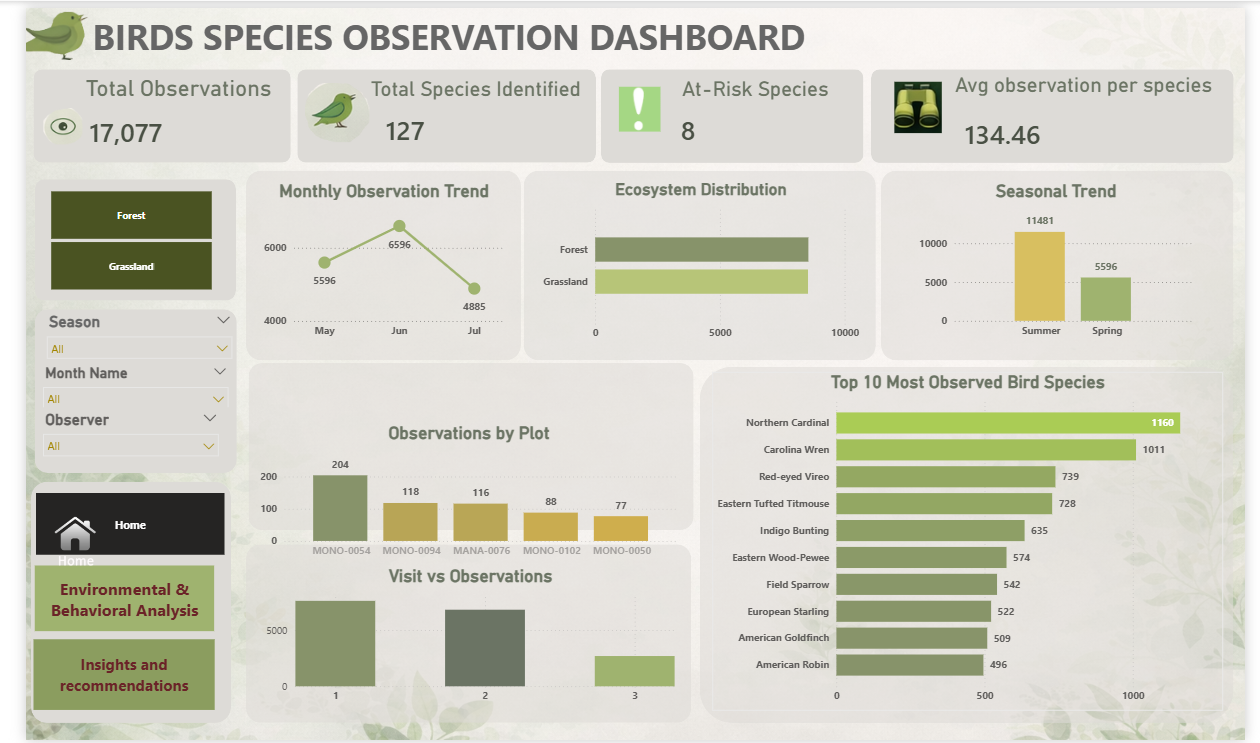

Layout of this report page (visuals, bound fields, positions):
{"tool":"powerbi","page":{"name":"Home","canvas":[1500,900],"ordinal":0},"visuals":[{"type":"group","id":"g1","title":"Group 2","box":[6.2,75.4,320,115.4],"z":0},{"type":"shape","box":[9.3,75.4,316.7,115],"z":0,"group":"g1"},{"type":"group","id":"g2","title":"Group 2","box":[333.8,75.4,367.7,115],"z":0,"group":"g11"},{"type":"shape","box":[333.8,75.4,367.7,115],"z":0,"group":"g2"},{"type":"group","id":"g3","title":"Group 2","box":[707.7,75.4,323.1,115.4],"z":0,"group":"g6"},{"type":"shape","box":[707.7,75.4,323.1,115.4],"z":0,"group":"g3"},{"type":"group","id":"g4","title":"Group 3","box":[1039.4,76.1,446.5,121.8],"z":0,"group":"g12"},{"type":"group","id":"g5","title":"Group 2","box":[1039.4,76.1,446.5,121.8],"z":0,"group":"g4"},{"type":"shape","box":[1039.4,76.1,446.5,115.5],"z":0,"group":"g5"},{"type":"cardVisual","title":"Avg observation per species","fields":{"Data":["birds_analysis bird_data.Avg Observations per Species"]},"box":[1135.1,81,332.4,116.9],"z":0,"group":"g7"},{"type":"cardVisual","title":"Total Observations","fields":{"Data":["birds_analysis bird_data.Total_observation"]},"box":[49,83.4,276.9,105.1],"z":0,"group":"g8"},{"type":"cardVisual","title":"At-Risk Species","fields":{"Data":["birds_analysis bird_data.At_risk_species"]},"box":[777,83.9,241.3,99.7],"z":0,"group":"g9"},{"type":"cardVisual","title":"Total Species Identified","fields":{"Data":["birds_analysis bird_data.Total_species"]},"box":[413.2,84.2,279.1,99.3],"z":0,"group":"g10"},{"type":"group","id":"g6","title":"Group 3","box":[707.7,75.4,323.1,115.4],"z":1000},{"type":"image","box":[1061.3,91.5,73.2,63.4],"z":1000,"group":"g12"},{"type":"image","box":[335.2,92.6,95.6,73],"z":1000,"group":"g11"},{"type":"image","box":[717.4,96.3,76.9,55.4],"z":1000,"group":"g6"},{"type":"image","box":[6.2,122.8,78,44.5],"z":1000,"group":"g8"},{"type":"shape","box":[612.7,200,433.8,233.8],"z":1000,"group":"g20"},{"type":"shape","box":[1052.1,200,433.8,233.8],"z":1000,"group":"g15"},{"type":"group","id":"g7","title":"Group 1","box":[1135.1,81,332.4,116.9],"z":1002,"group":"g5"},{"type":"group","id":"g8","title":"Group 1","box":[6.2,83.4,319.7,105.1],"z":1002,"group":"g1"},{"type":"group","id":"g9","title":"Group 1","box":[777,83.9,241.3,99.7],"z":1002,"group":"g3"},{"type":"group","id":"g10","title":"Group 1","box":[413.2,84.2,279.1,99.3],"z":1002,"group":"g2"},{"type":"group","id":"g11","title":"Group 4","box":[333.8,75.4,367.7,113.8],"z":2000},{"type":"group","id":"g12","title":"Group 5","box":[1039.4,76.1,446.5,121.8],"z":3000},{"type":"group","id":"g13","title":"Group 6","box":[612.7,200,433.8,233.8],"z":5000},{"type":"clusteredBarChart","title":"Ecosystem Distribution","fields":{"Y":["birds_analysis bird_data.Total_observation"],"Category":["birds_analysis bird_data.Location_Type"]},"box":[631.1,210.7,400,207.3],"z":5000,"group":"g20"},{"type":"columnChart","title":"Seasonal Trend","fields":{"Category":["birds_analysis bird_data.Season"],"Y":["birds_analysis bird_data.Total_observation"]},"box":[1094.4,211.8,347.9,202.9],"z":5000,"group":"g15"},{"type":"shape","box":[270.8,200,338.5,233.8],"z":6000},{"type":"lineChart","title":"Monthly Observation Trend","fields":{"Category":["birds_analysis bird_data.Month Name"],"Y":["birds_analysis bird_data.Total_observation"]},"box":[287.7,212.3,306.2,203.1],"z":7000},{"type":"shape","box":[10.8,210.8,247.7,149.2],"z":8000},{"type":"slicer","fields":{"Values":["birds_analysis bird_data.Ecosystem"]},"box":[4.6,218.5,247.7,135.4],"z":9000},{"type":"group","id":"g14","title":"Group 8","box":[10.8,370.8,253.8,201.5],"z":10000},{"type":"textbox","box":[76.9,0,936.9,81.5],"z":11000},{"type":"image","box":[0,0,77.5,69],"z":12000},{"type":"shape","box":[829.2,441.5,656.9,438.5],"z":12000,"group":"g18"},{"type":"group","id":"g15","title":"Group 10","box":[1052.1,200,433.8,233.8],"z":13000},{"type":"clusteredBarChart","title":"Top 10 Most Observed Bird Species","fields":{"Category":["birds_analysis bird_data.Common_Name"],"Y":["birds_analysis bird_data.Total_observation"]},"box":[844.2,448.4,629.2,416.9],"z":13000,"group":"g18"},{"type":"group","id":"g16","title":"Group 11","box":[273.8,436.9,547.7,249.2],"z":14000},{"type":"shape","box":[273.8,436.9,547.9,205.6],"z":14000,"group":"g16"},{"type":"columnChart","title":"Observations by Plot","fields":{"Category":["birds_analysis bird_data.Plot_Name"],"Y":["birds_analysis bird_data.Total_observation"]},"box":[283.3,511.1,524.6,175.4],"z":15000,"group":"g16"},{"type":"shape","box":[6.2,583.1,246.2,296.9],"z":15000},{"type":"group","id":"g17","title":"Group 12","box":[270.4,660.6,547.9,219.7],"z":16000},{"type":"shape","box":[270.4,660.6,547.9,219.7],"z":16000,"group":"g17"},{"type":"group","id":"g18","title":"Group 13","box":[829.2,441.5,656.9,438.5],"z":17000},{"type":"columnChart","title":"Visit vs Observations","fields":{"Category":["birds_analysis bird_data.Visit"],"Y":["birds_analysis bird_data.Total_observation"]},"box":[290.8,686.9,512.7,178.9],"z":17000,"group":"g17"},{"type":"shape","box":[10.8,370.8,248.7,201.5],"z":18000,"group":"g14"},{"type":"pageNavigator","box":[10.8,686.2,221.5,81.5],"z":18000},{"type":"slicer","fields":{"Values":["birds_analysis bird_data.Observer"]},"box":[10.8,491,236.6,62.5],"z":19000,"group":"g19"},{"type":"pageNavigator","box":[12.3,596.9,232.3,76.9],"z":19000},{"type":"slicer","fields":{"Values":["birds_analysis bird_data.Season"]},"box":[16,370.8,248.7,71.9],"z":19500,"group":"g19"},{"type":"slicer","fields":{"Values":["birds_analysis bird_data.Month Name"]},"box":[10.8,433.3,248.7,57.8],"z":20000,"group":"g19"},{"type":"image","box":[0,626.2,121.5,60],"z":20000},{"type":"group","id":"g19","title":"Group 7","box":[10.8,370.8,253.8,182.7],"z":20002,"group":"g14"},{"type":"pageNavigator","box":[9.2,776.9,223.1,87.7],"z":20002},{"type":"group","id":"g20","title":"Group 9","box":[612.7,200,433.8,233.8],"z":20006,"group":"g13"}]}

Visuals, with their boxes in screenshot pixels (x1, y1, x2, y2), scaled from the page's 1500x900 canvas onto the 1260x743 screenshot:
"Group 2" group: 5,62,274,158
shape: 8,62,274,157
"Group 2" group: 280,62,589,157
shape: 280,62,589,157
"Group 2" group: 594,62,866,158
shape: 594,62,866,158
"Group 3" group: 873,63,1248,163
"Group 2" group: 873,63,1248,163
shape: 873,63,1248,158
"Avg observation per species" cardVisual: 953,67,1233,163
"Total Observations" cardVisual: 41,69,274,156
"At-Risk Species" cardVisual: 653,69,855,152
"Total Species Identified" cardVisual: 347,70,582,151
"Group 3" group: 594,62,866,158
image: 891,76,953,128
image: 282,76,362,137
image: 603,80,667,125
image: 5,101,71,138
shape: 515,165,879,358
shape: 884,165,1248,358
"Group 1" group: 953,67,1233,163
"Group 1" group: 5,69,274,156
"Group 1" group: 653,69,855,152
"Group 1" group: 347,70,582,151
"Group 4" group: 280,62,589,156
"Group 5" group: 873,63,1248,163
"Group 6" group: 515,165,879,358
"Ecosystem Distribution" clusteredBarChart: 530,174,866,345
"Seasonal Trend" columnChart: 919,175,1212,342
shape: 227,165,512,358
"Monthly Observation Trend" lineChart: 242,175,499,343
shape: 9,174,217,297
slicer - birds_analysis bird_data.Ecosystem: 4,180,212,292
"Group 8" group: 9,306,222,472
textbox: 65,0,852,67
image: 0,0,65,57
shape: 697,364,1248,726
"Group 10" group: 884,165,1248,358
"Top 10 Most Observed Bird Species" clusteredBarChart: 709,370,1238,714
"Group 11" group: 230,361,690,566
shape: 230,361,690,530
"Observations by Plot" columnChart: 238,422,679,567
shape: 5,481,212,726
"Group 12" group: 227,545,687,727
shape: 227,545,687,727
"Group 13" group: 697,364,1248,726
"Visit vs Observations" columnChart: 244,567,675,715
shape: 9,306,218,472
pageNavigator: 9,566,195,634
slicer - birds_analysis bird_data.Observer: 9,405,208,457
pageNavigator: 10,493,205,556
slicer - birds_analysis bird_data.Season: 13,306,222,365
slicer - birds_analysis bird_data.Month Name: 9,358,218,405
image: 0,517,102,566
"Group 7" group: 9,306,222,457
pageNavigator: 8,641,195,714
"Group 9" group: 515,165,879,358
